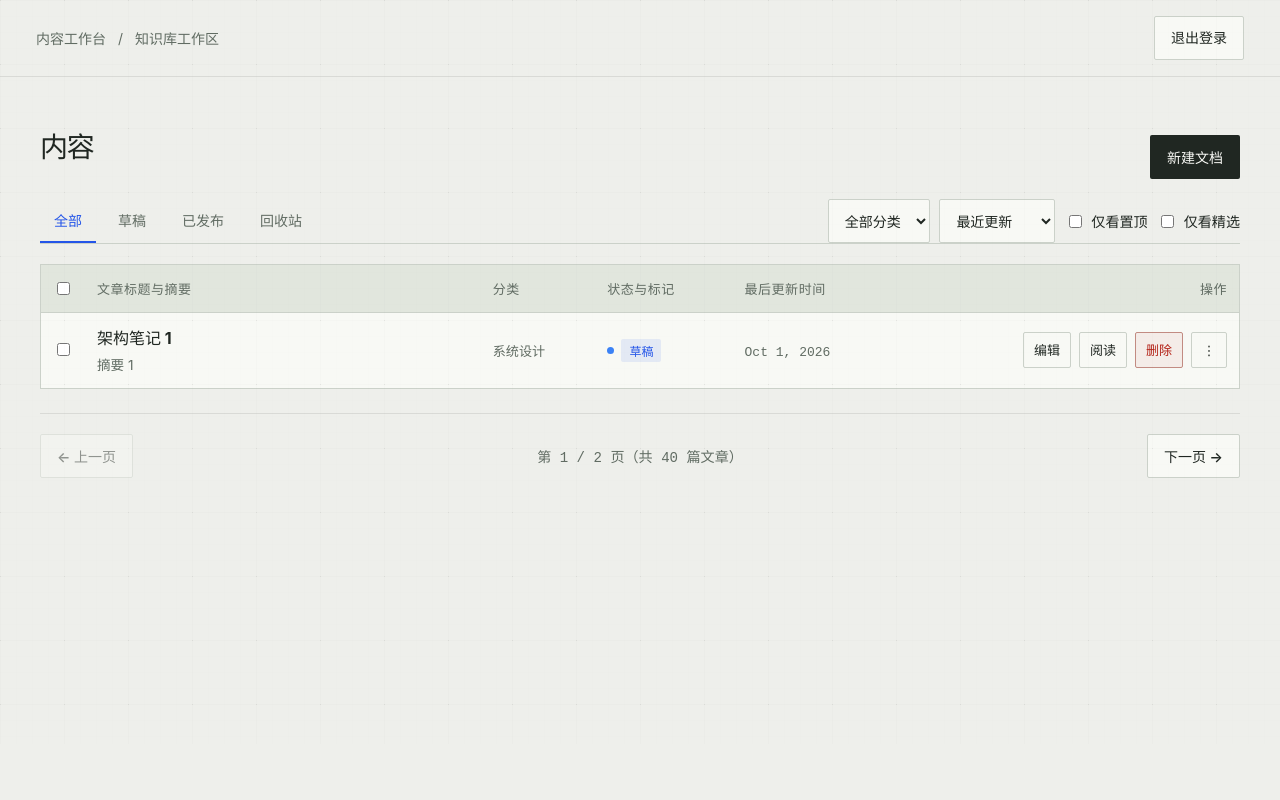
知识库体验优化 最终综合验收套件 (6大场景全覆盖) › 场景 5: 列表服务端排序、组合筛选与批量生命周期 › 换页或切换筛选条件时自动清空批量选择
The width and height of the screenshot is (1280, 800).
Expected: the text "架构笔记 1" is shown, [97,328,172,348]
Step 1. Click the checkbox named "选择文章 架构笔记 1" → click(64, 350), box [57,344,70,356]
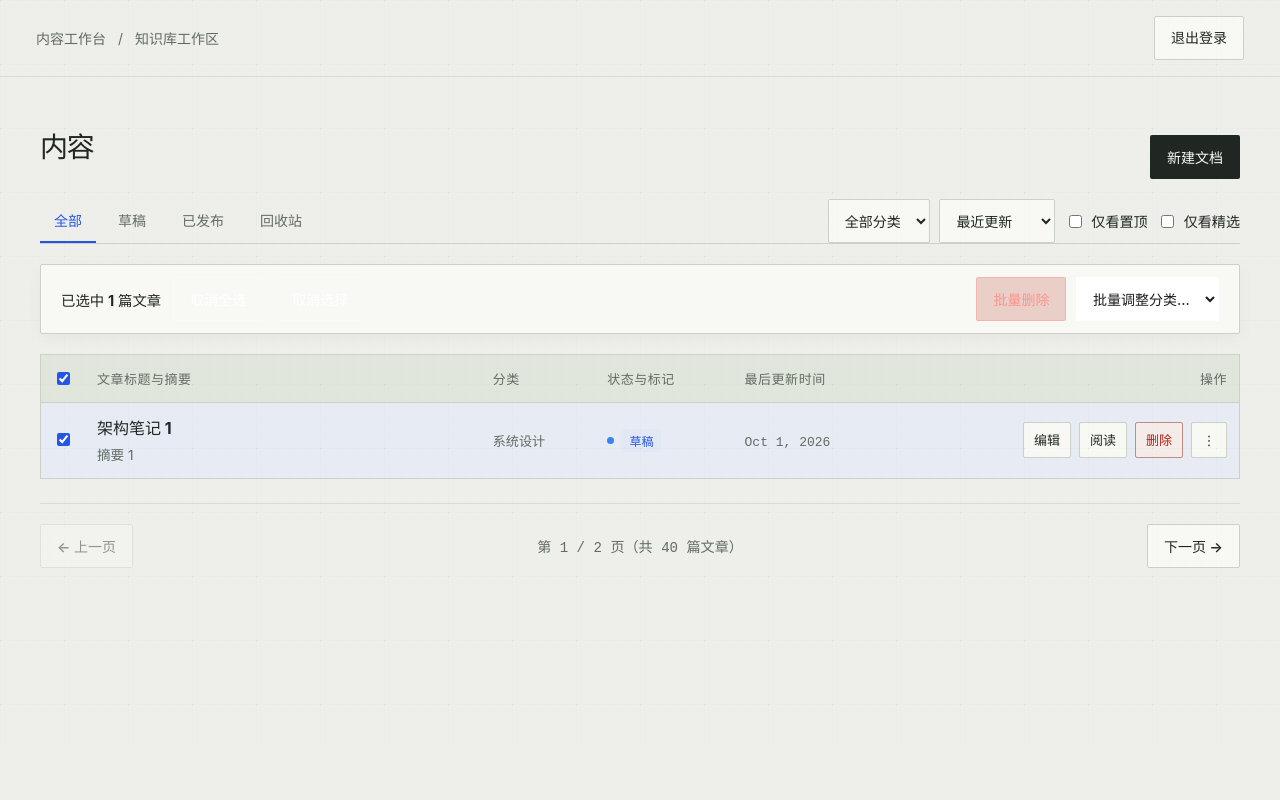
Result: the checkbox named "选择文章 架构笔记 1" is checked at [57,434,70,446]
Result: the element named "批量管理操作栏" is shown at [40,264,1240,334]
Note: 切换页码到第 2 页
Step 2. Click the button "下一页 →" → click(1194, 546), box [1147,524,1240,568]
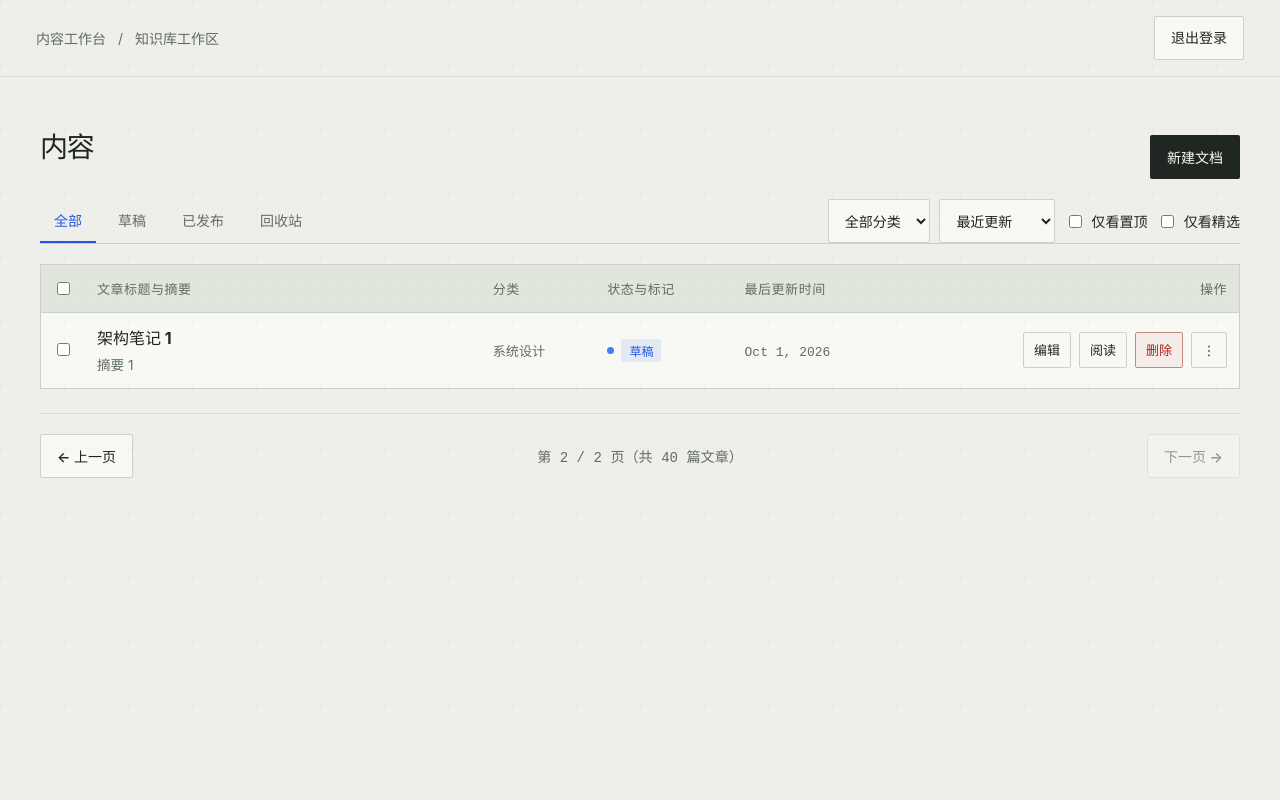
Result: the element "批量管理操作栏" is gone
